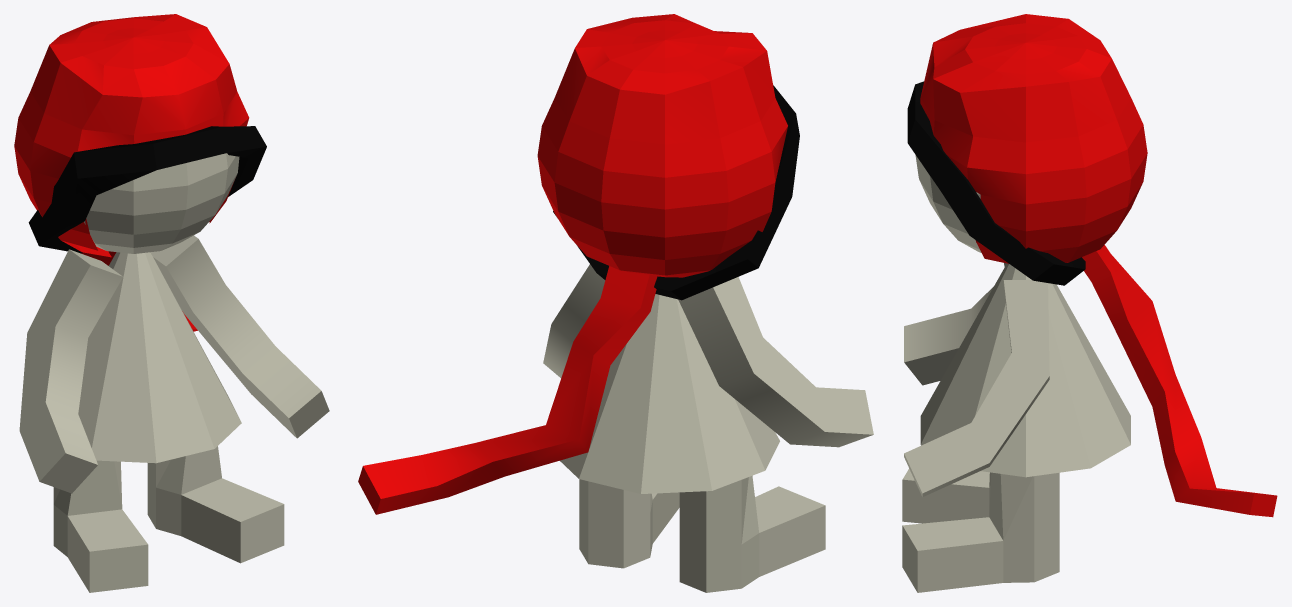
File: Woman.fbx
The picture shows the model from 3 angles, left to right: view 1: azimuth 30°, elevation 25°; view 2: azimuth 150°, elevation 25°; view 3: azimuth 270°, elevation 25°; orthographic projection. The views are drawn at different scales.
Parts seen in each view (by area): view 1: hat, torso, R_arm, L_arm, L_leg, ring1, face, R_leg; view 2: hat, torso, scarf, R_arm, R_leg, L_leg, ring1, L_arm; view 3: hat, torso, L_leg, scarf, L_arm, ring1, R_arm, R_leg, face.
Part boxes in pixels (x1,y1,x2,y2): hat: [14, 14, 249, 257]; torso: [78, 252, 241, 463]; R_arm: [19, 249, 122, 493]; L_arm: [151, 235, 329, 438]; L_leg: [147, 446, 284, 563]; ring1: [28, 126, 266, 253]; face: [84, 153, 239, 253]; R_leg: [53, 460, 148, 592]; hat: [537, 14, 787, 277]; torso: [560, 294, 779, 493]; scarf: [358, 266, 657, 514]; R_arm: [678, 277, 873, 447]; R_leg: [679, 475, 825, 592]; L_leg: [579, 479, 679, 568]; ring1: [553, 85, 799, 300]; L_arm: [543, 264, 605, 378]; hat: [920, 14, 1147, 263]; torso: [920, 263, 1130, 477]; L_leg: [902, 472, 1059, 592]; scarf: [1082, 245, 1277, 517]; L_arm: [904, 280, 1049, 497]; ring1: [907, 81, 1085, 285]; R_arm: [904, 263, 1006, 385]; R_leg: [902, 468, 991, 523]; face: [915, 155, 981, 252].
Bounding box in the file's own units: 1.72 × 2.5 × 1.69.
